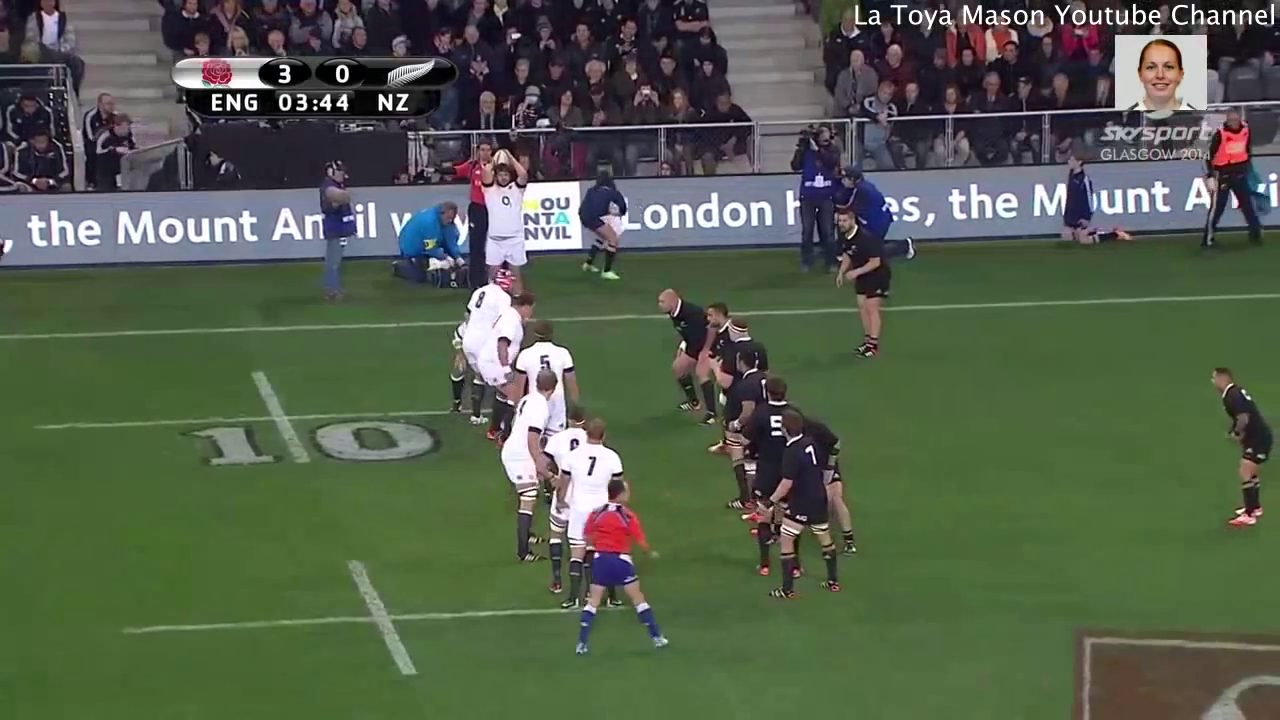10_metre: (105, 552, 626, 681), (24, 358, 539, 475)
lineout: (423, 234, 894, 652)
player: (564, 475, 681, 660), (770, 405, 848, 617), (556, 415, 634, 621), (1197, 358, 1280, 534), (497, 359, 564, 569), (447, 254, 520, 426), (825, 205, 900, 367), (474, 286, 541, 443), (544, 403, 597, 595), (648, 276, 709, 423), (743, 367, 800, 520), (709, 340, 765, 493), (507, 319, 583, 420), (715, 310, 767, 378), (703, 294, 740, 370)
